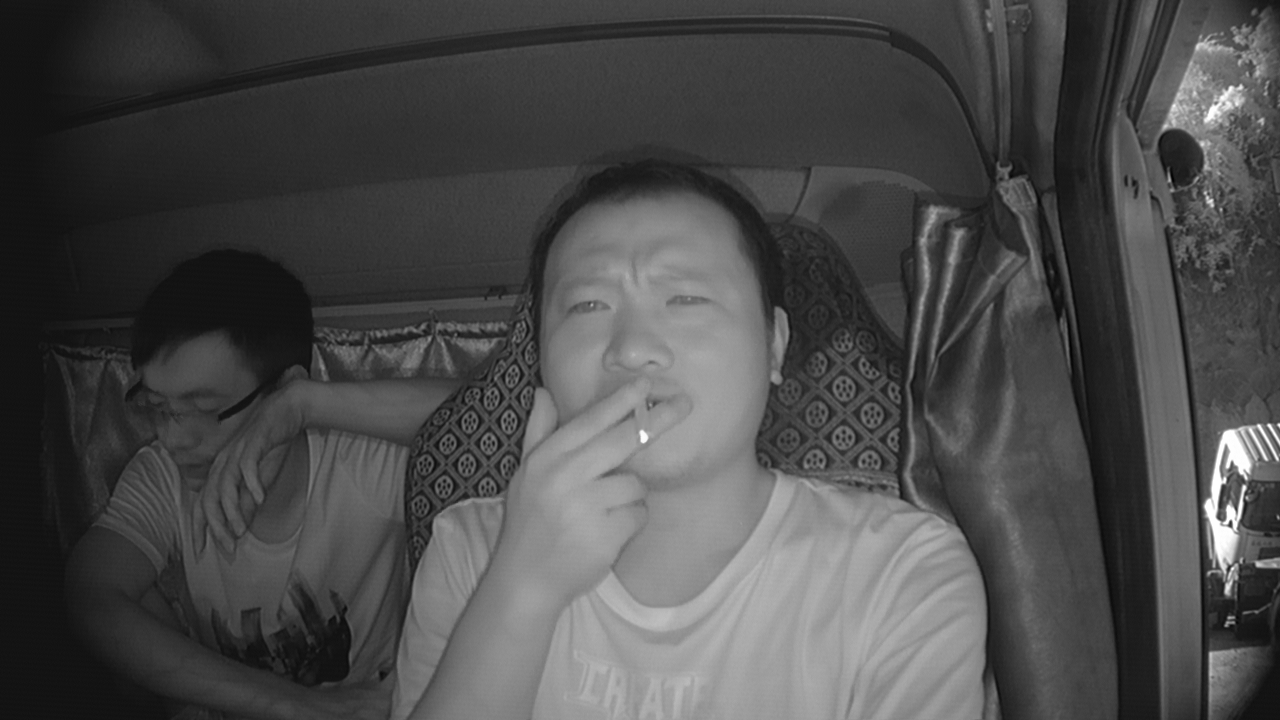hand: (526, 377, 693, 550)
